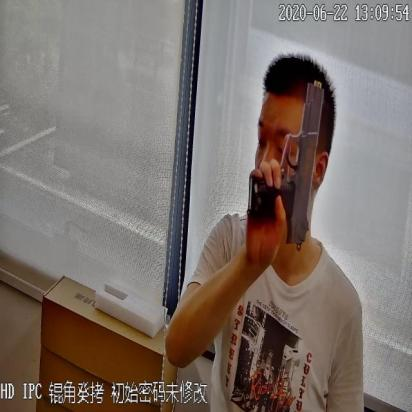Gun: (245, 76, 324, 256)
